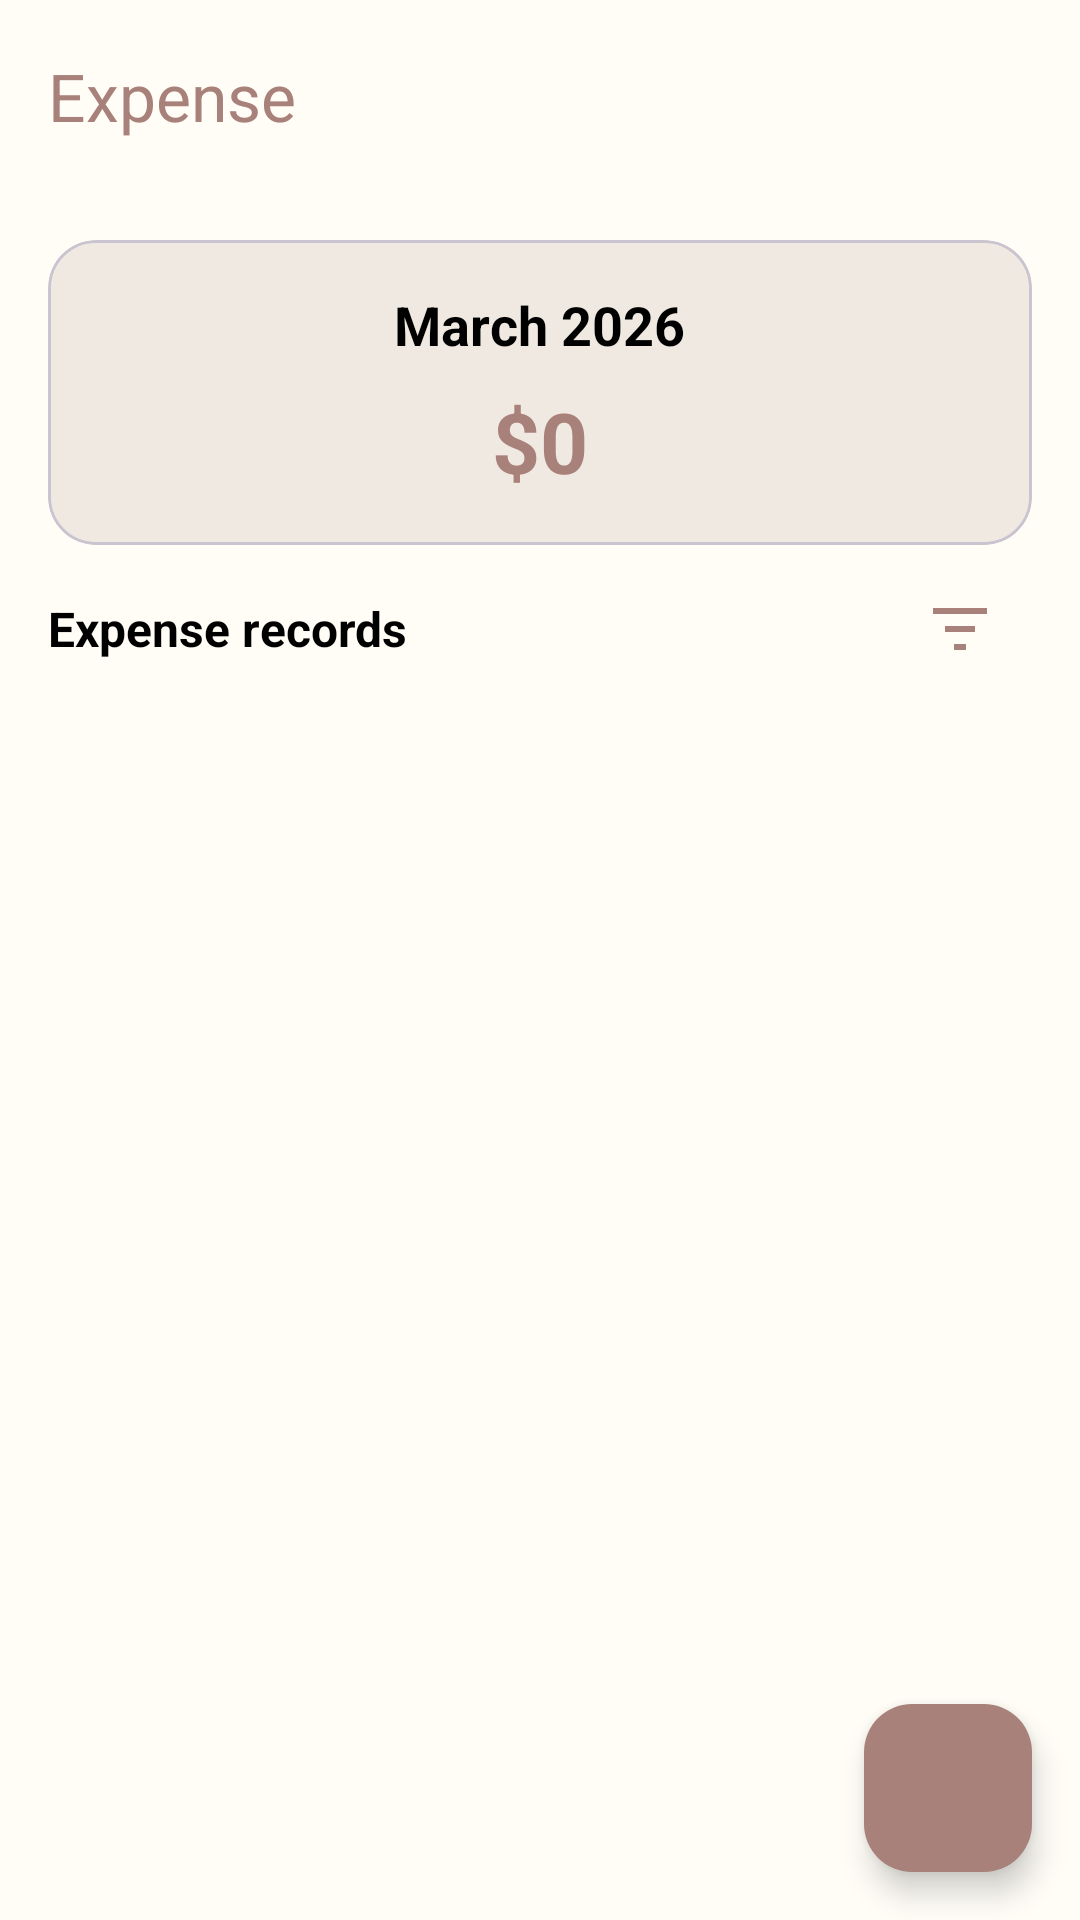

Icon click points for this 1080px×1920px phone screenshot, format point (x, y):
Filter: point (960, 629)
